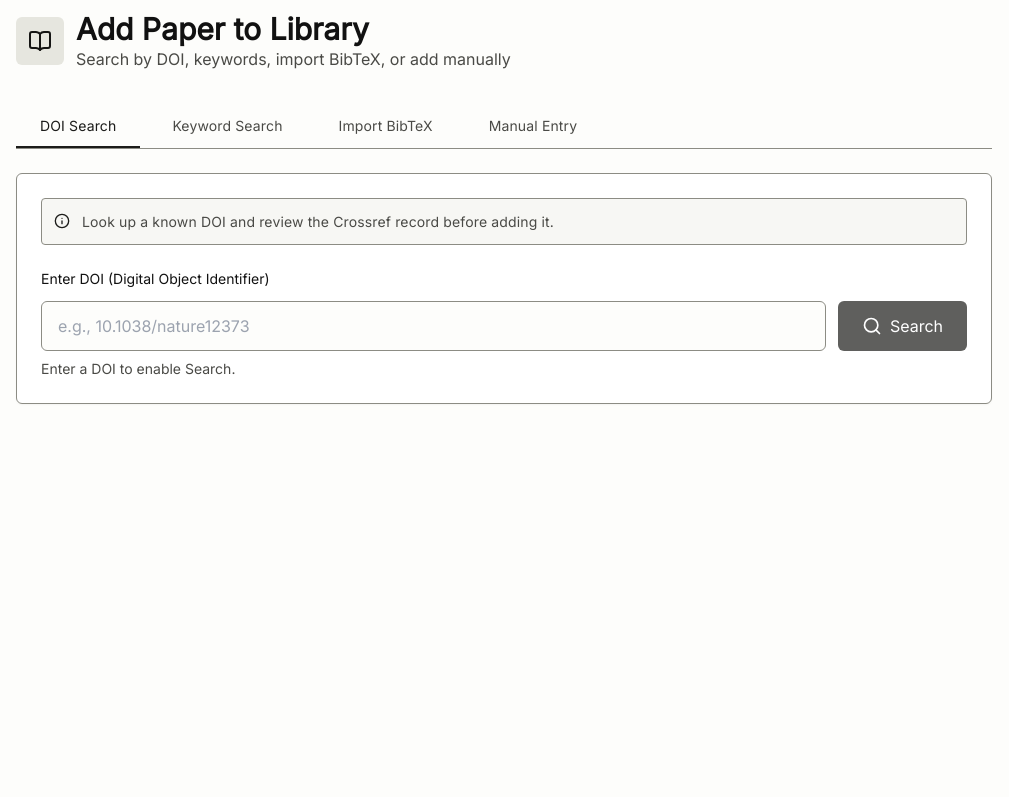
Test: AddPaperView Component › Manual Entry › should require title for manual entry
Click the tab "Manual Entry": point(533, 126) [465, 103, 601, 148]
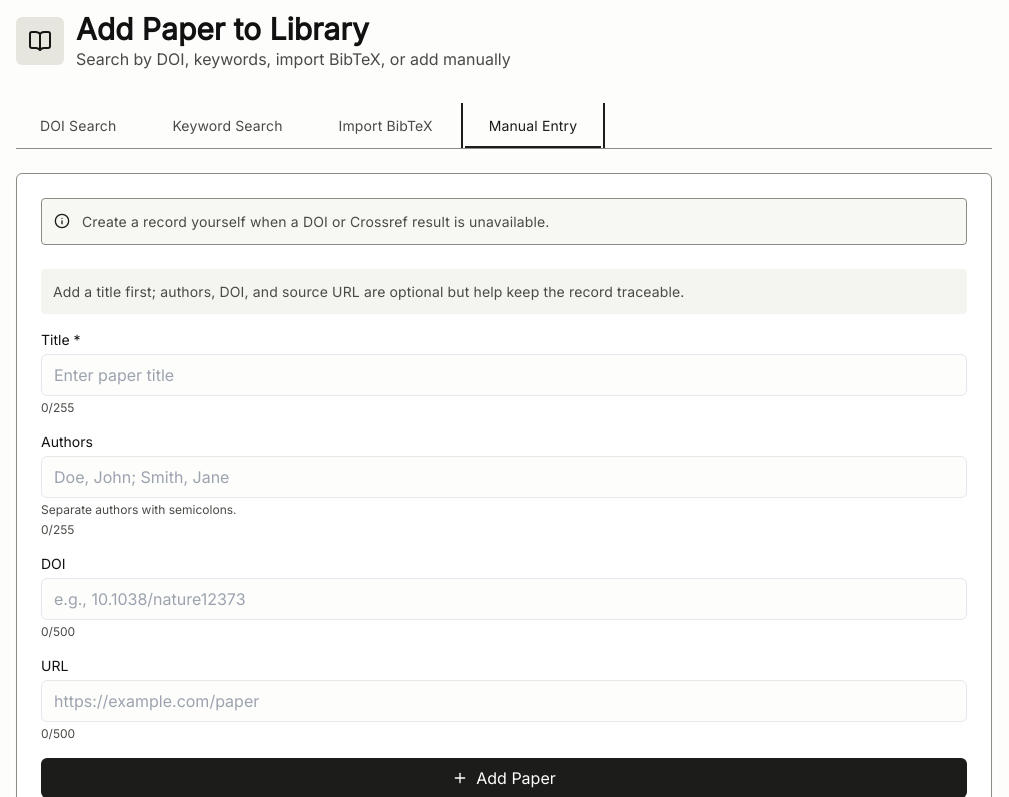
Now the button "Add Paper" is enabled, box [41, 758, 967, 796]
Submit the form named "add paper", box [41, 330, 967, 796]
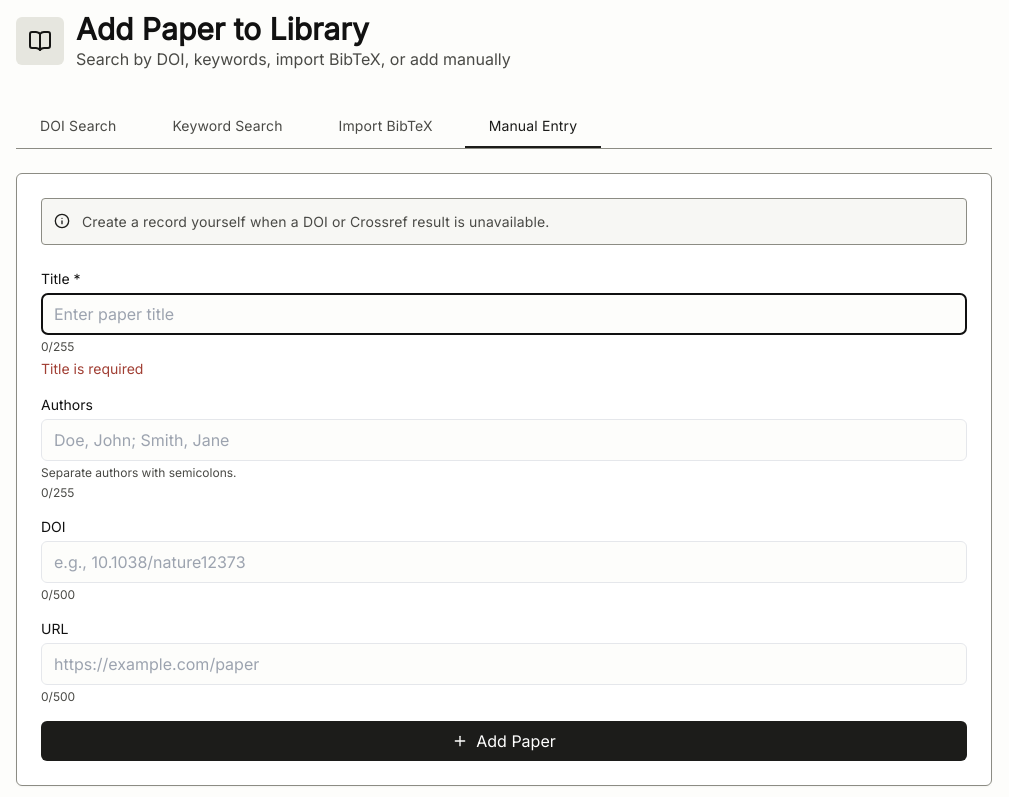
Now the text "Title is required" is shown, box [41, 360, 143, 377]
In the field with placeholder "Enter paper title": point(504, 314) [41, 293, 967, 335], type "A"
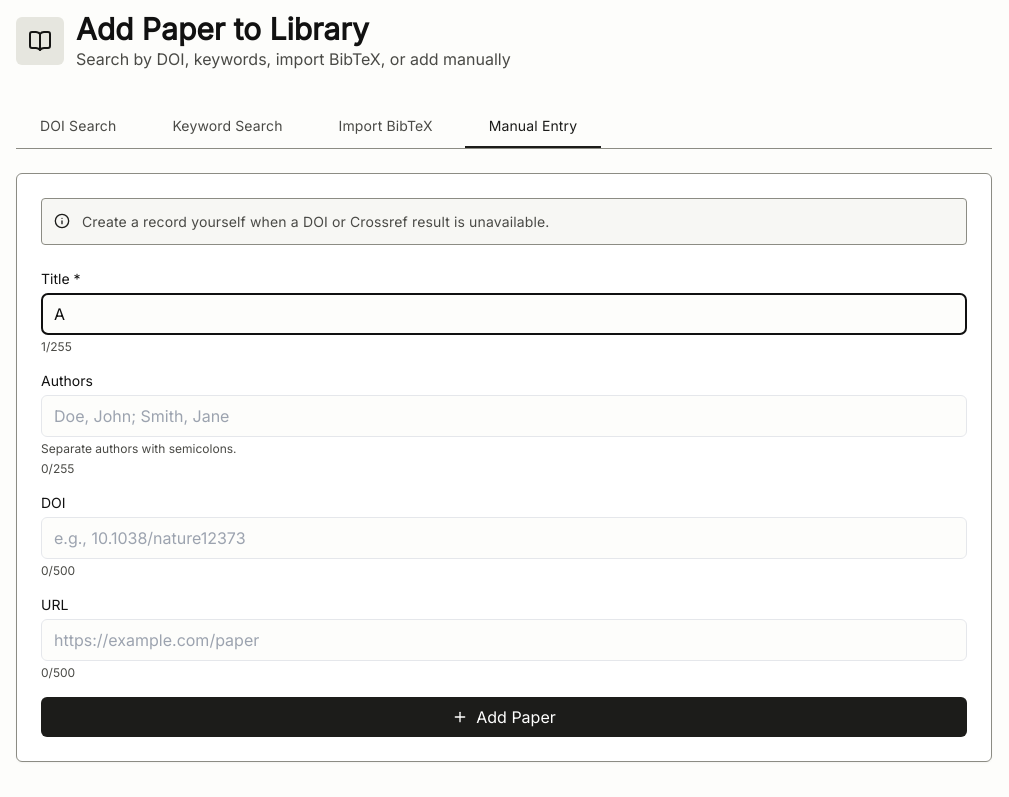
Now the text "Title is required" is gone
